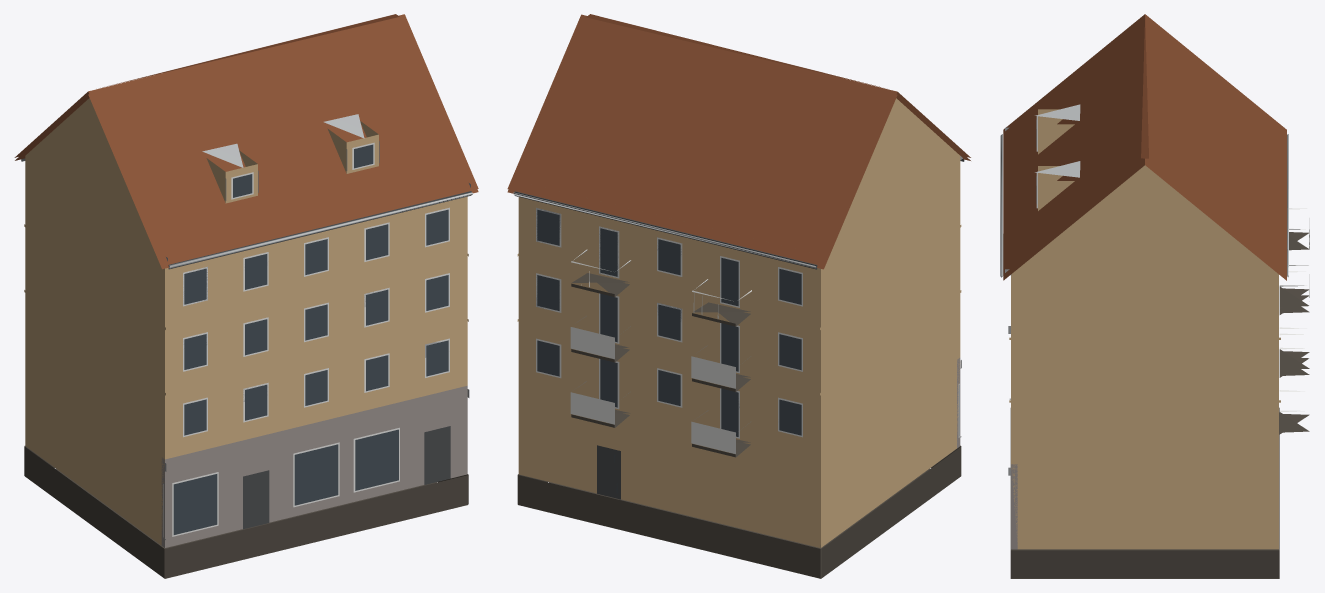
File: block-row-4-lod1.glb
3 views of the same model, side by side, from view 1: azimuth 30°, elevation 25°; view 2: azimuth 150°, elevation 25°; view 3: azimuth 270°, elevation 25° (orthographic). The views are drawn at different scales.
Parts seen in each view (by area): view 1: block-row-4-plaster0; view 2: block-row-4-plaster0; view 3: block-row-4-plaster0.
Boxes of the visible parts, left/top/right/bottom form: block-row-4-plaster0: left=14, top=14, right=478, bottom=578; block-row-4-plaster0: left=507, top=14, right=970, bottom=578; block-row-4-plaster0: left=1000, top=14, right=1309, bottom=578.
Size of the model in its own units: 15.7 by 20.78 by 13.89.
